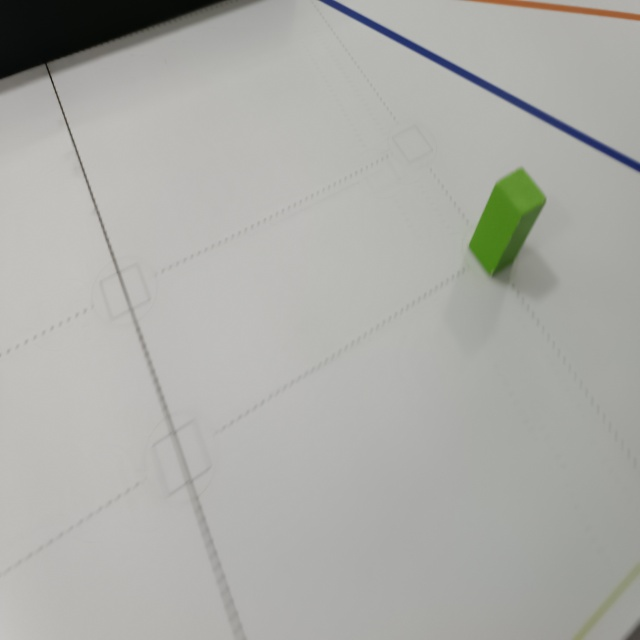blue line: (318, 0, 637, 175)
green rectangular prism: (468, 166, 550, 279)
orange line: (485, 0, 640, 21)
